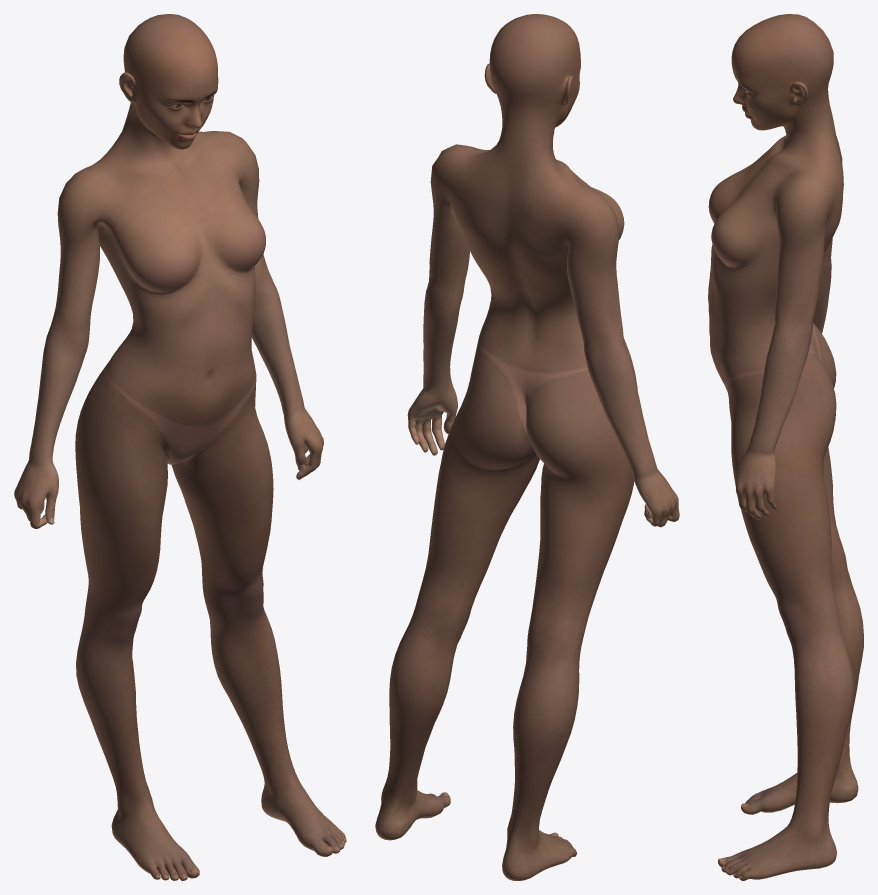
3 renders of one model, left to right at view 1: azimuth 30°, elevation 25°; view 2: azimuth 150°, elevation 25°; view 3: azimuth 270°, elevation 25°, orthographic. The views are drawn at different scales.
Visible parts, largest first — view 1: mesh_character_m.001; view 2: mesh_character_m.001; view 3: mesh_character_m.001.
Boxes of the visible parts, x1,y1,x2,y2 form: mesh_character_m.001: (14,14,346,880); mesh_character_m.001: (375,14,679,880); mesh_character_m.001: (708,14,863,880).
Bounding box in the file's own units: 0.6526 × 1.77 × 0.3138.
Materials: 1 (1 with a texture image).
